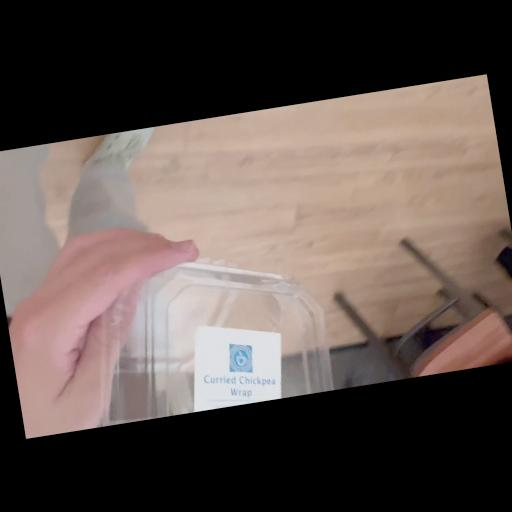small_plastic_container: (68, 224, 342, 428)
